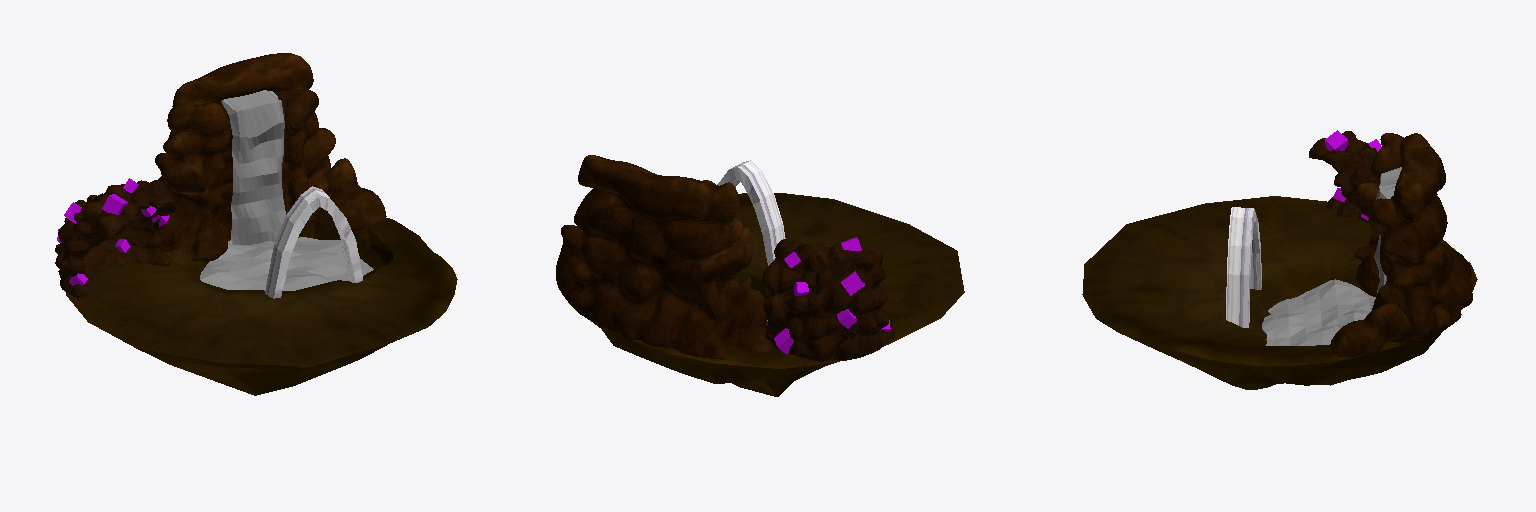
3 renders of one model, left to right at view 1: azimuth 30°, elevation 25°; view 2: azimuth 150°, elevation 25°; view 3: azimuth 270°, elevation 25°, orthographic.
Parts seen in each view (by area): view 1: Floor_LowPoly_polySurface1, Big_Rock_LowPoly_Group33451, Cave_LoPoly_Group47064, Water_002, Water_001, Arch; view 2: Big_Rock_LowPoly_Group33451, Floor_LowPoly_polySurface1, Cave_LoPoly_Group47064, Arch; view 3: Floor_LowPoly_polySurface1, Big_Rock_LowPoly_Group33451, Water_001, Arch, Cave_LoPoly_Group47064, Water_002.
Boxes of the visible parts, <box> form: Floor_LowPoly_polySurface1: <box>66,218,457,395</box>; Big_Rock_LowPoly_Group33451: <box>155,53,386,260</box>; Cave_LoPoly_Group47064: <box>55,180,176,297</box>; Water_002: <box>221,90,285,244</box>; Water_001: <box>200,237,373,290</box>; Arch: <box>265,186,362,298</box>; Big_Rock_LowPoly_Group33451: <box>556,155,770,359</box>; Floor_LowPoly_polySurface1: <box>601,193,964,396</box>; Cave_LoPoly_Group47064: <box>762,239,894,361</box>; Arch: <box>717,160,785,265</box>; Floor_LowPoly_polySurface1: <box>1082,196,1477,389</box>; Big_Rock_LowPoly_Group33451: <box>1330,133,1472,357</box>; Water_001: <box>1262,279,1375,345</box>; Arch: <box>1226,207,1261,327</box>; Cave_LoPoly_Group47064: <box>1309,131,1379,259</box>; Water_002: <box>1374,167,1401,292</box>.
Bounding box in the file's own units: 23114 × 16098 × 23218.
6 materials, 5 textured.